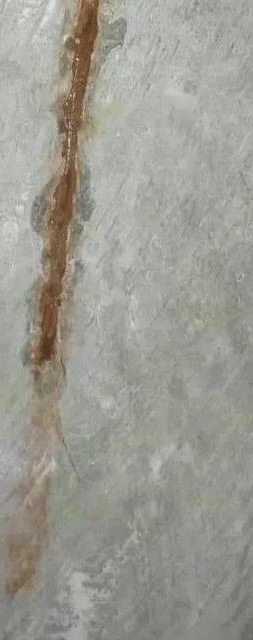Exposed reinforcement: (38, 1, 99, 363)
